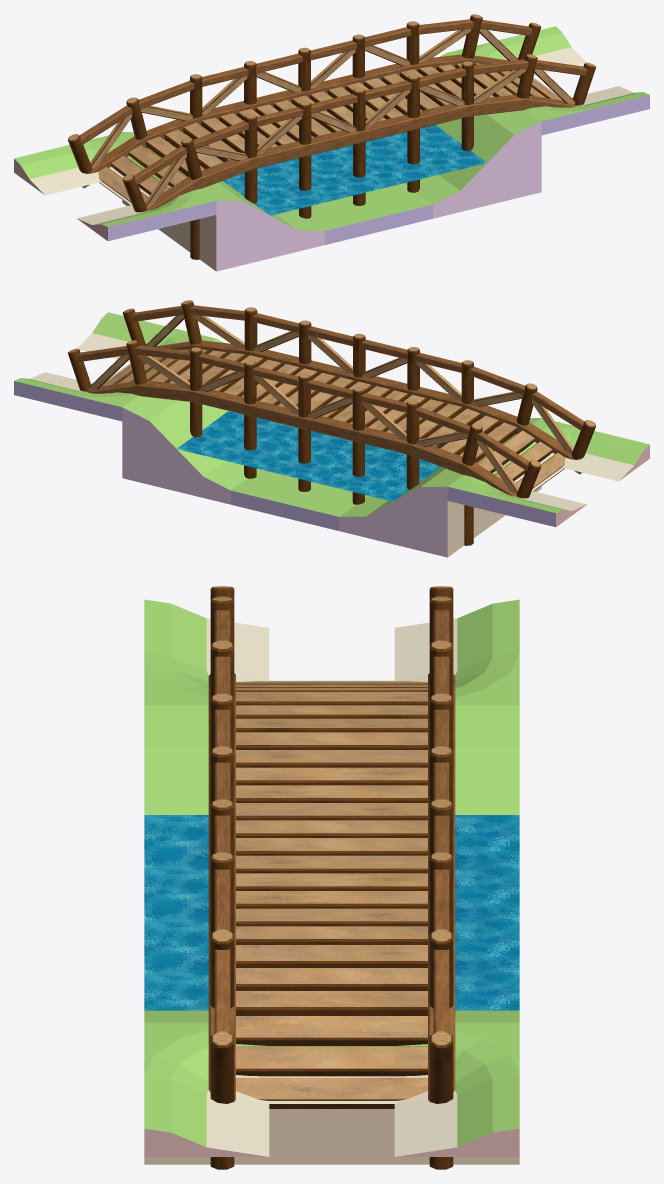
File: Path_Bridge_River_Wide.glb
The picture shows the model from 3 angles, top to bottom: view 1: azimuth 30°, elevation 25°; view 2: azimuth 150°, elevation 25°; view 3: azimuth 270°, elevation 25°; orthographic projection. The views are drawn at different scales.
Visible parts, largest first — view 1: Prop_Bridge_Center_1x2 (×4), Prop_Bridge_End_2x2 (×2), Grass_Hill_Sharp_Straight_1x2 (×2), Terrain_Water_River_Flat_1x1 (×8), Path_Terrain_Basic_Straight_1x1 (×4), Grass_Flat_1x1, Path_Terrain_Basic_Curve_Inner_1x1 (×4); view 2: Prop_Bridge_Center_1x2 (×4), Prop_Bridge_End_2x2 (×2), Grass_Hill_Sharp_Straight_1x2 (×2), Terrain_Water_River_Flat_1x1 (×8), Path_Terrain_Basic_Straight_1x1 (×4), Grass_Flat_1x1, Path_Terrain_Basic_Curve_Inner_1x1 (×4); view 3: Prop_Bridge_End_2x2 (×2), Prop_Bridge_Center_1x2 (×4), Path_Terrain_Basic_Straight_1x1 (×4), Terrain_Water_River_Flat_1x1 (×8), Grass_Hill_Sharp_Straight_1x2 (×2), Path_Terrain_Basic_Curve_Inner_1x1 (×4).
Part boxes in pixels (x1,y1,x2,y2): Prop_Bridge_Center_1x2 (×4): (194,21,471,218); Prop_Bridge_End_2x2 (×2): (68,14,595,259); Grass_Hill_Sharp_Straight_1x2 (×2): (122,52,541,271); Terrain_Water_River_Flat_1x1 (×8): (223,125,486,215); Path_Terrain_Basic_Straight_1x1 (×4): (14,26,649,241); Grass_Flat_1x1: (296,183,432,244); Path_Terrain_Basic_Curve_Inner_1x1 (×4): (68,39,595,227); Prop_Bridge_Center_1x2 (×4): (192,307,469,504); Prop_Bridge_End_2x2 (×2): (68,300,595,545); Grass_Hill_Sharp_Straight_1x2 (×2): (122,338,541,557); Terrain_Water_River_Flat_1x1 (×8): (177,411,440,501); Path_Terrain_Basic_Straight_1x1 (×4): (14,312,649,527); Grass_Flat_1x1: (231,469,367,530); Path_Terrain_Basic_Curve_Inner_1x1 (×4): (68,325,595,513); Prop_Bridge_End_2x2 (×2): (208,586,455,1169); Prop_Bridge_Center_1x2 (×4): (208,644,455,944); Path_Terrain_Basic_Straight_1x1 (×4): (144,599,519,1156); Terrain_Water_River_Flat_1x1 (×8): (144,815,519,1010); Grass_Hill_Sharp_Straight_1x2 (×2): (144,705,519,1164); Path_Terrain_Basic_Curve_Inner_1x1 (×4): (144,652,519,1103).
Bounding box in the file's own units: 1000 × 225 × 300.
Materials: 16 (9 with a texture image).
